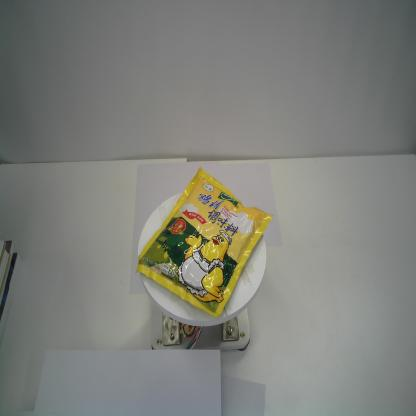Seasoner: (134, 165, 275, 318)
